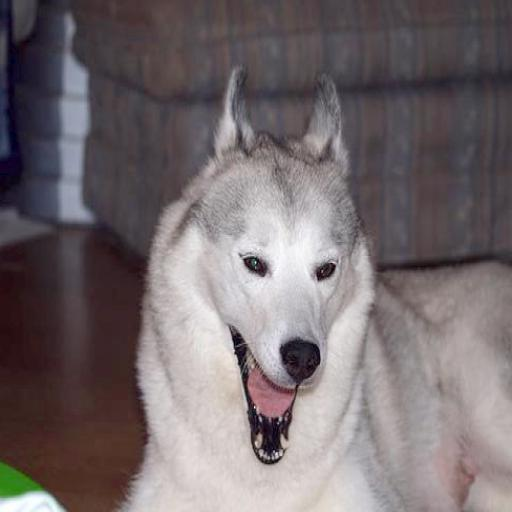dog_face: (210, 70, 347, 446)
